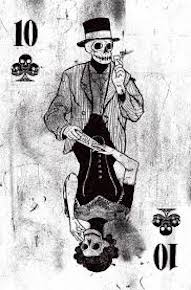TenOfClubs: (5, 8, 189, 284)
